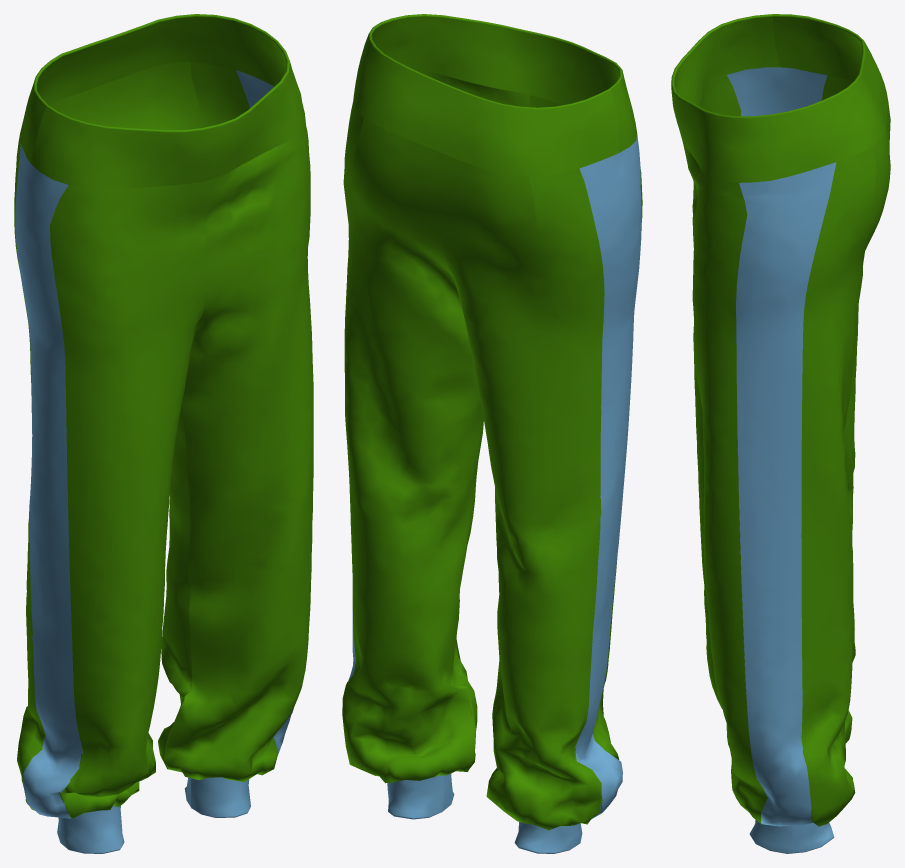
3 renders of one model, left to right at view 1: azimuth 30°, elevation 25°; view 2: azimuth 150°, elevation 25°; view 3: azimuth 270°, elevation 25°, orthographic. The views are drawn at different scales.
Visible parts, largest first — view 1: Pattern2D_4640240, Pattern2D_4476826, Pattern2D_4220494, Pattern2D_4640238, Pattern2D_4640241, Pattern2D_4555758, Pattern2D_4002359, Pattern2D_4640239, Pattern2D_4640242; view 2: Pattern2D_4555758, Pattern2D_4640241, Pattern2D_4220494, Pattern2D_4640238, Pattern2D_4640240, Pattern2D_4640239, Pattern2D_4002359, Pattern2D_4476826; view 3: Pattern2D_4640242, Pattern2D_4640241, Pattern2D_4220494, Pattern2D_4640240, Pattern2D_4640238, Pattern2D_4476826, Pattern2D_4555758, Pattern2D_4640239.
Boxes of the visible parts, x1,y1,x2,y2 form: Pattern2D_4640240: (162, 113, 313, 781); Pattern2D_4476826: (50, 177, 216, 818); Pattern2D_4220494: (20, 14, 304, 189); Pattern2D_4640238: (15, 144, 82, 818); Pattern2D_4640241: (102, 62, 249, 769); Pattern2D_4555758: (14, 85, 103, 810); Pattern2D_4002359: (57, 806, 124, 853); Pattern2D_4640239: (184, 777, 250, 817); Pattern2D_4640242: (236, 70, 293, 757); Pattern2D_4555758: (437, 152, 604, 830); Pattern2D_4640241: (342, 100, 482, 783); Pattern2D_4220494: (353, 14, 637, 175); Pattern2D_4640238: (575, 134, 641, 819); Pattern2D_4640240: (417, 71, 530, 767); Pattern2D_4640239: (387, 774, 454, 819); Pattern2D_4002359: (514, 822, 582, 853); Pattern2D_4476826: (530, 95, 642, 759); Pattern2D_4640242: (736, 162, 836, 826); Pattern2D_4640241: (801, 116, 890, 826); Pattern2D_4220494: (671, 14, 888, 182); Pattern2D_4640240: (683, 143, 767, 824); Pattern2D_4640238: (727, 67, 827, 116); Pattern2D_4476826: (692, 75, 741, 708); Pattern2D_4555758: (821, 75, 890, 743); Pattern2D_4640239: (749, 820, 834, 853).
Bounding box in the file's own units: 37.92 × 103 × 26.93.
